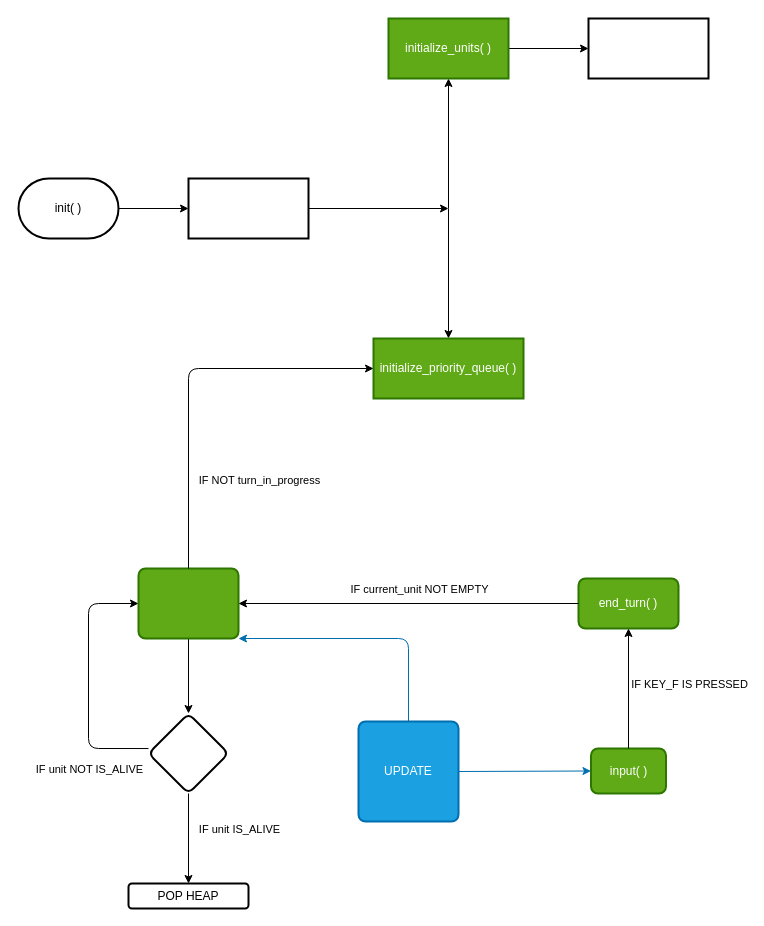
The diagram is 764 pixels wide and 926 high, and some of its shapes have lost their labels. The shapes that lost their labels are listed below. From the top down, each one's centre as x and y in pixels, then its label:
At (648,48): "create_unit( )".
At (248,208): "SETUP".
At (188,603): "process_turn( )".
